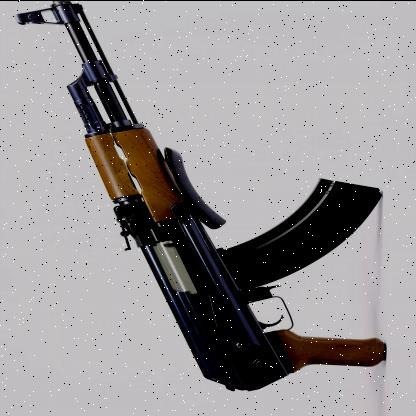rifle: (25, 21, 403, 401)
